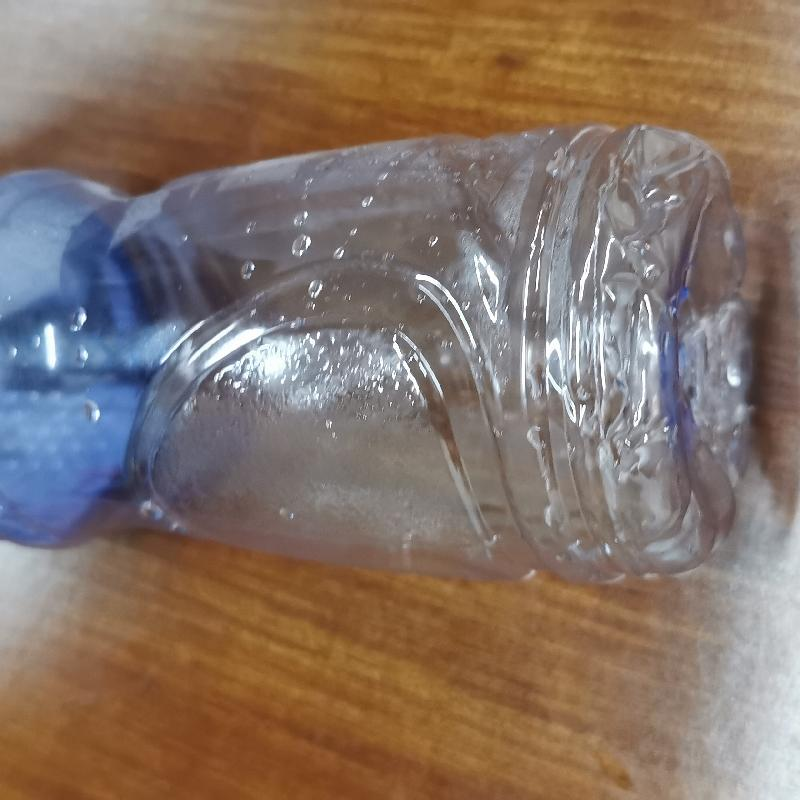bottles: (11, 121, 763, 595)
